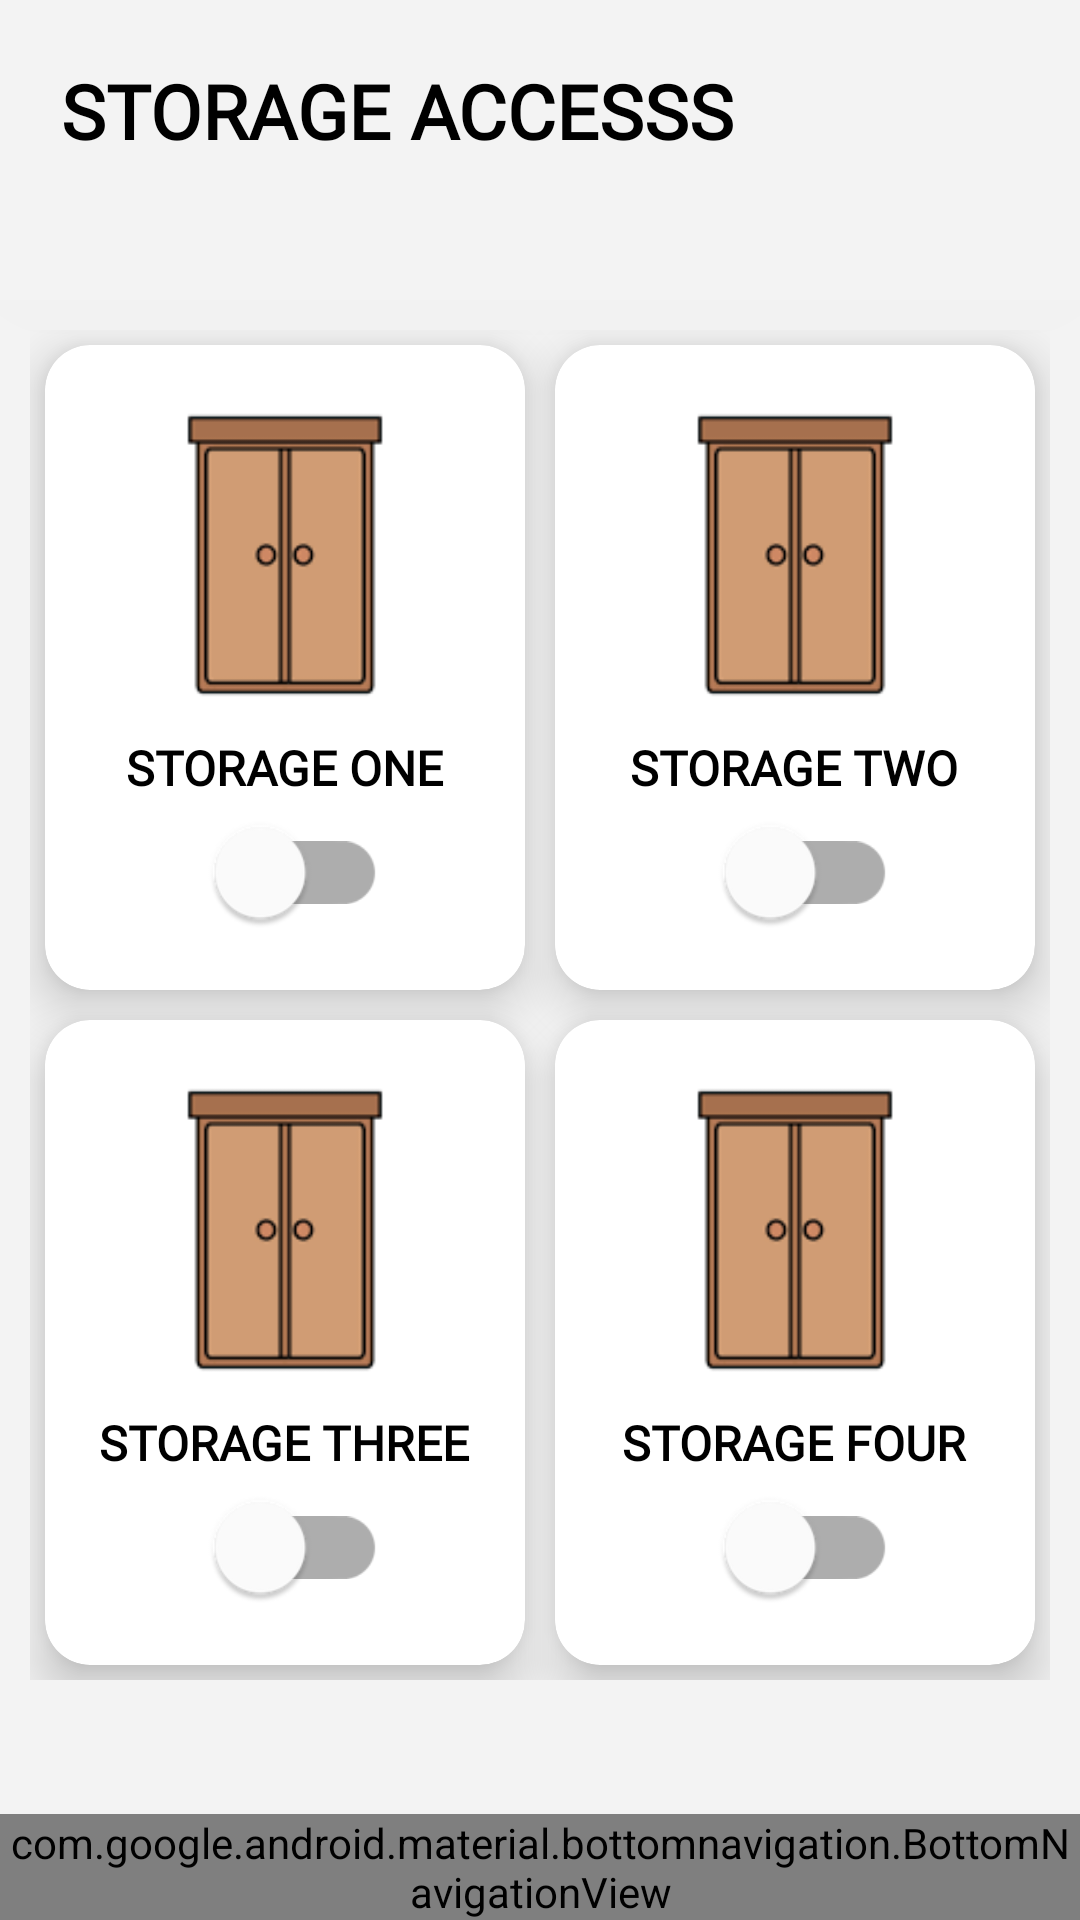

Named icons in this screenshot (1080 × 1920) and their bounding boxes, (x1,y1,x2,y2):
closet: (187,415,383,695), (697,415,893,695), (187,1090,383,1370), (697,1090,893,1370)
